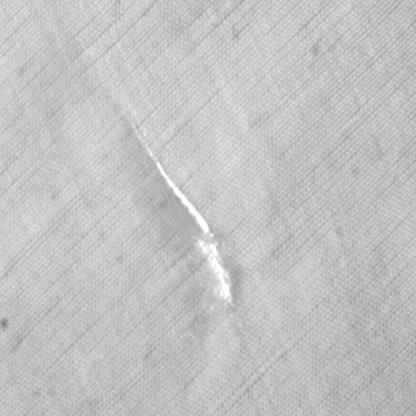hole: (121, 104, 238, 310)
